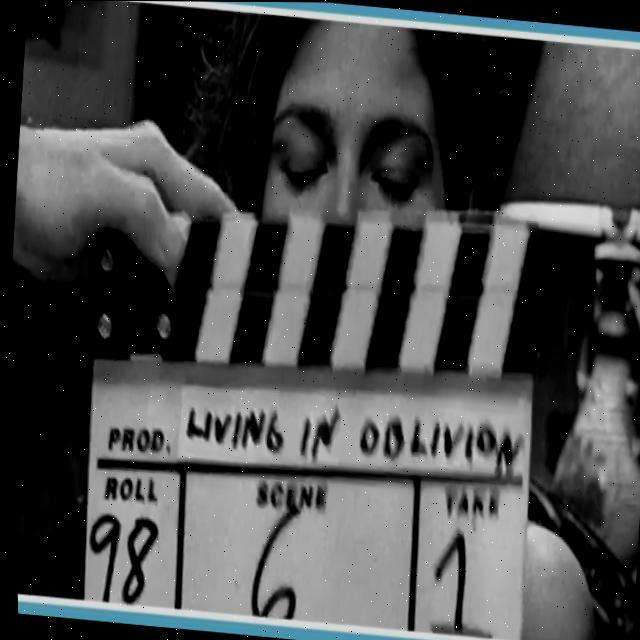Clapperboard: (55, 165, 557, 640)
